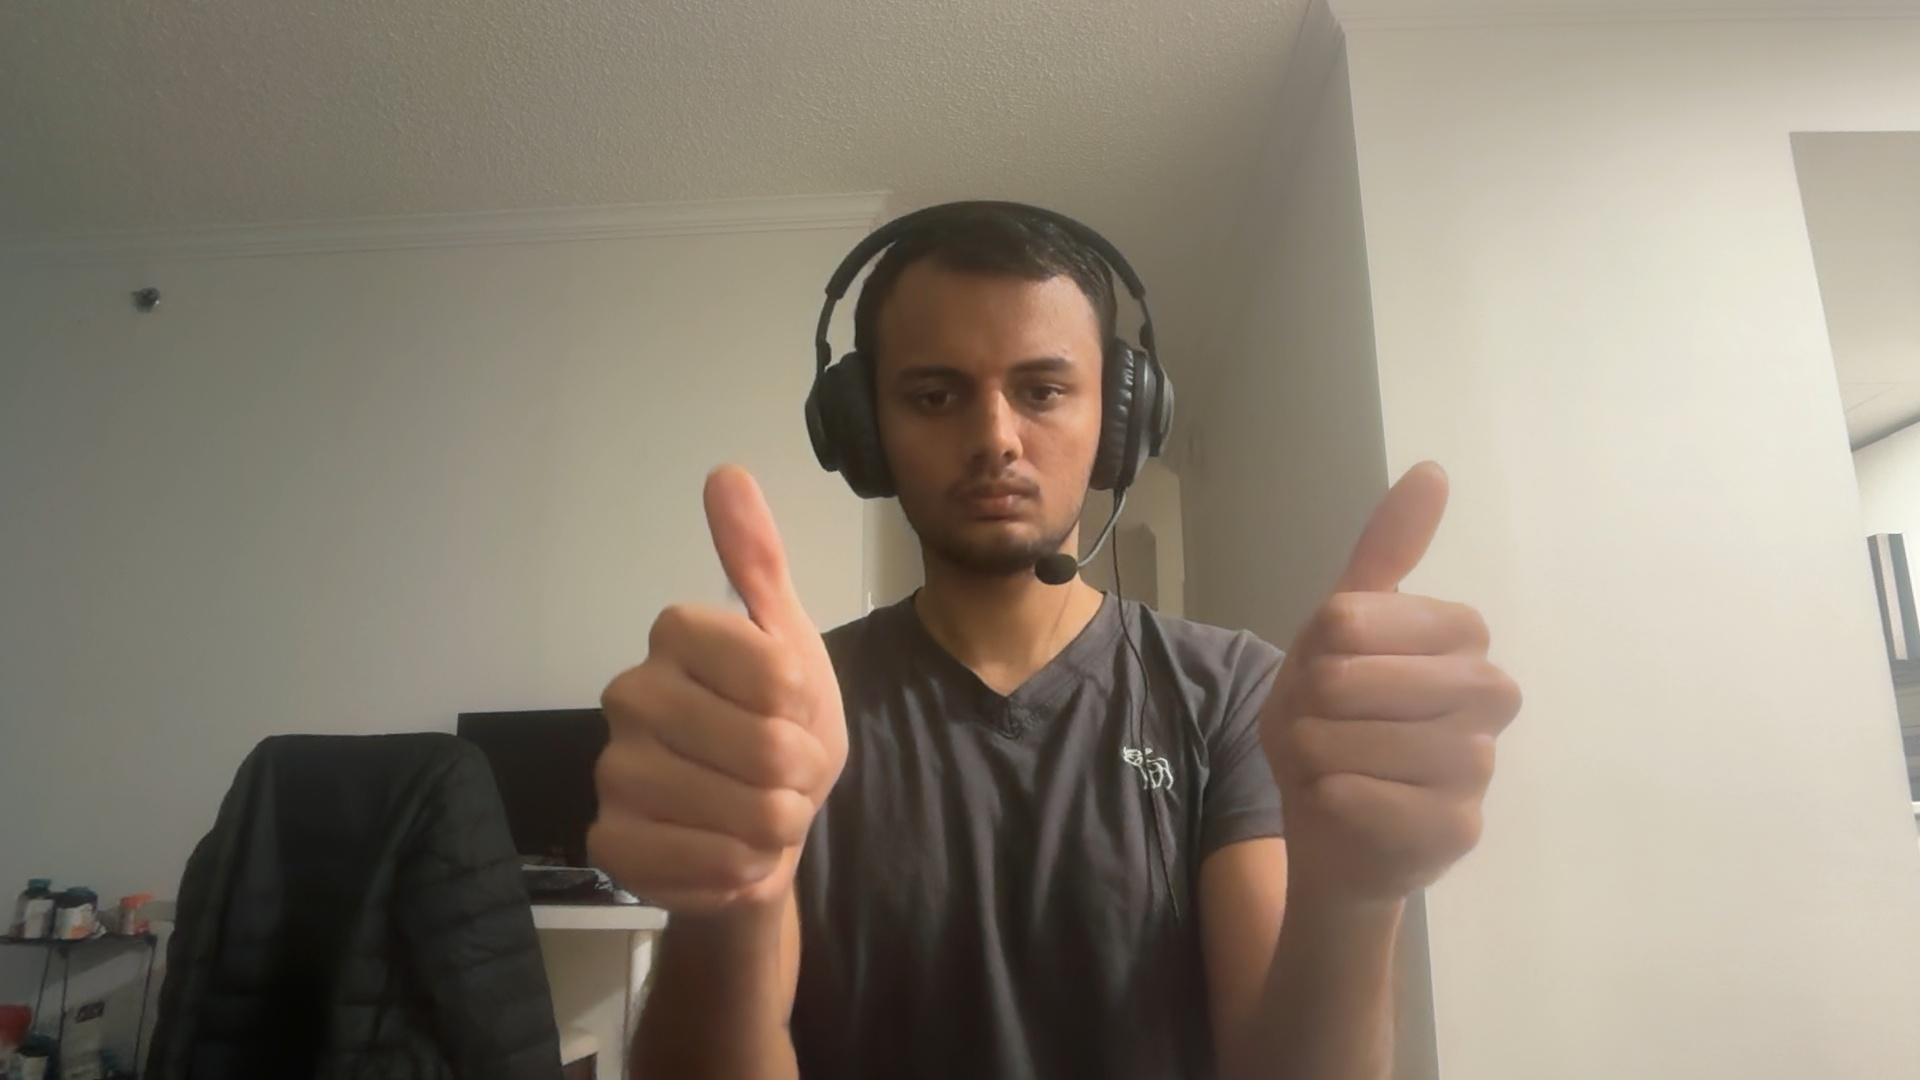thumbsup: (1265, 459, 1520, 890)
